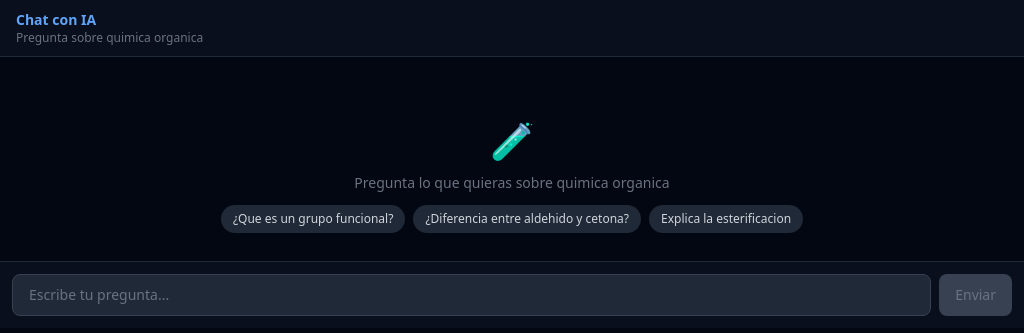
Test case: Chat › enables send button when input has text
In the field with placeholder "Escribe tu pregunta...": x=472, y=295 [12,274,931,316], type "test question"
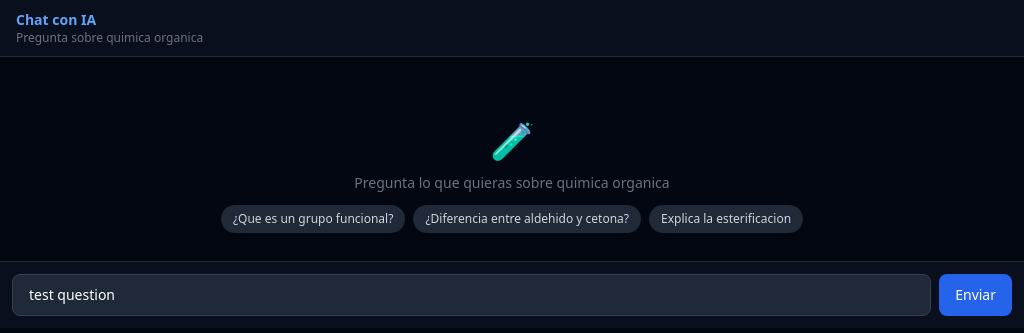
Expected: the button "Enviar" is enabled, [939,274,1012,316]
